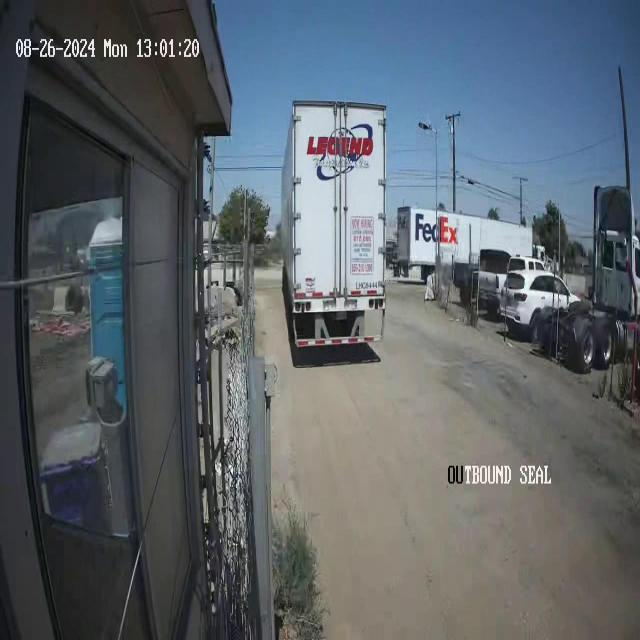TRUCK_IN: (280, 99, 388, 353)
